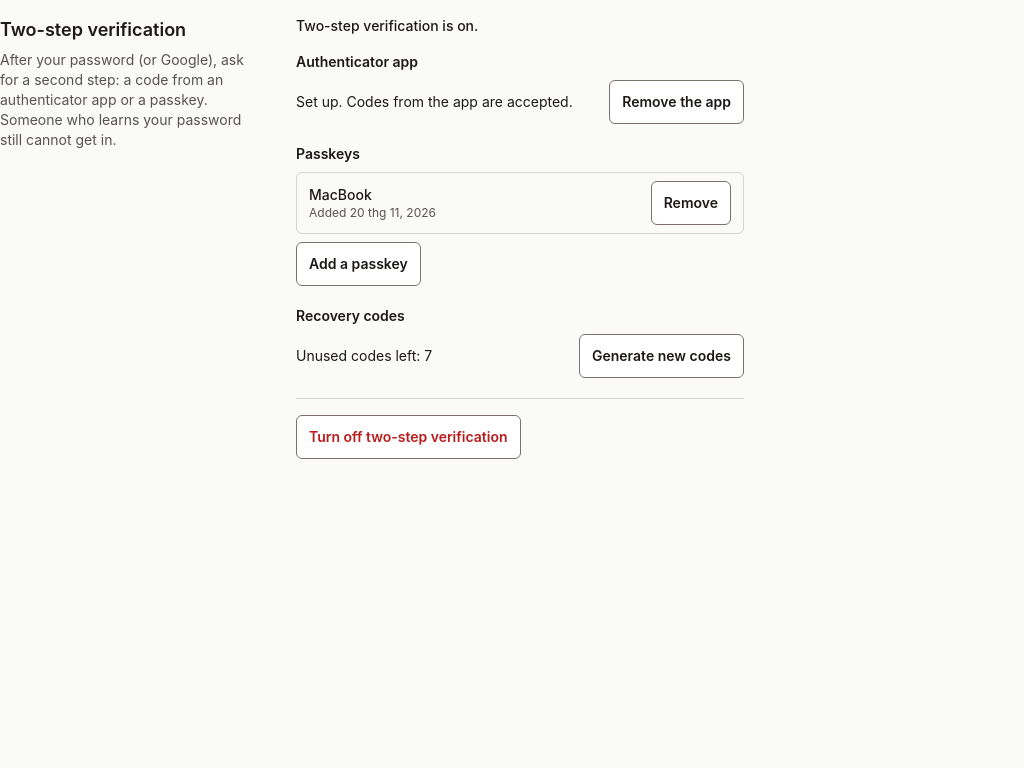
Test case: TwoStep › removes the app after a confirmation
Expected: the heading "Two-step verification" is shown, [0, 19, 186, 40]
Click the button "Remove the app": click(677, 102) [609, 80, 744, 124]
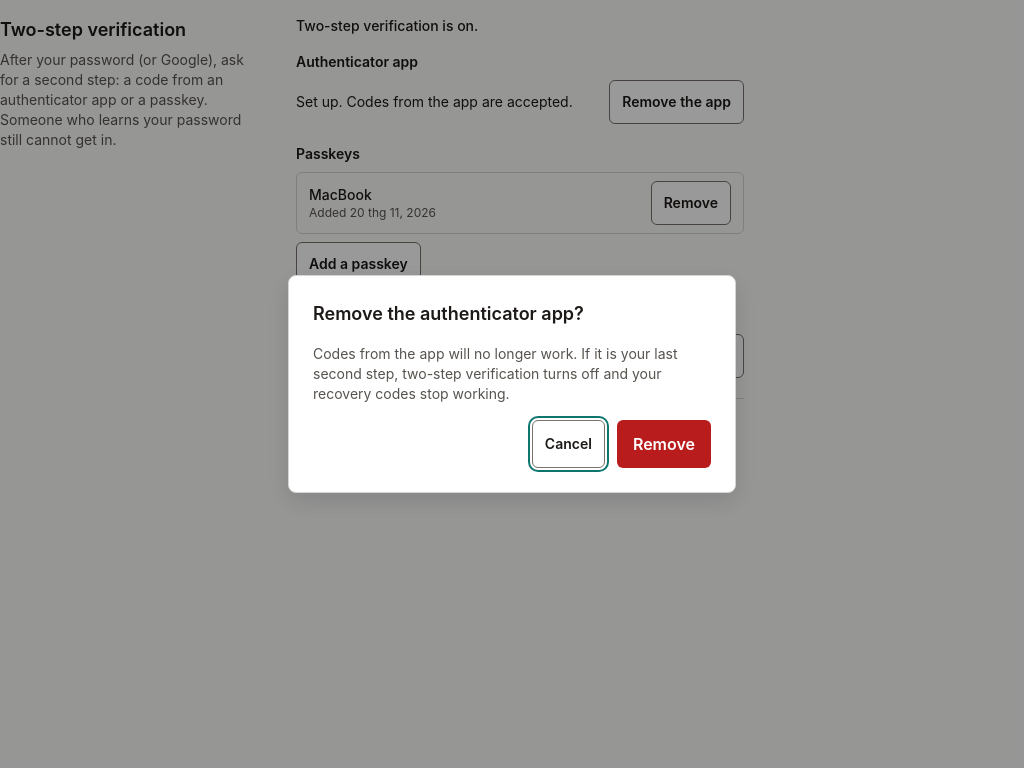
Result: the dialog shows "Codes from the app will no longer work. If it is your last second step, two-step verification turns off and your recovery codes stop working." at [313, 345, 678, 402]
Click the button "Remove": click(664, 444) [617, 420, 711, 468]
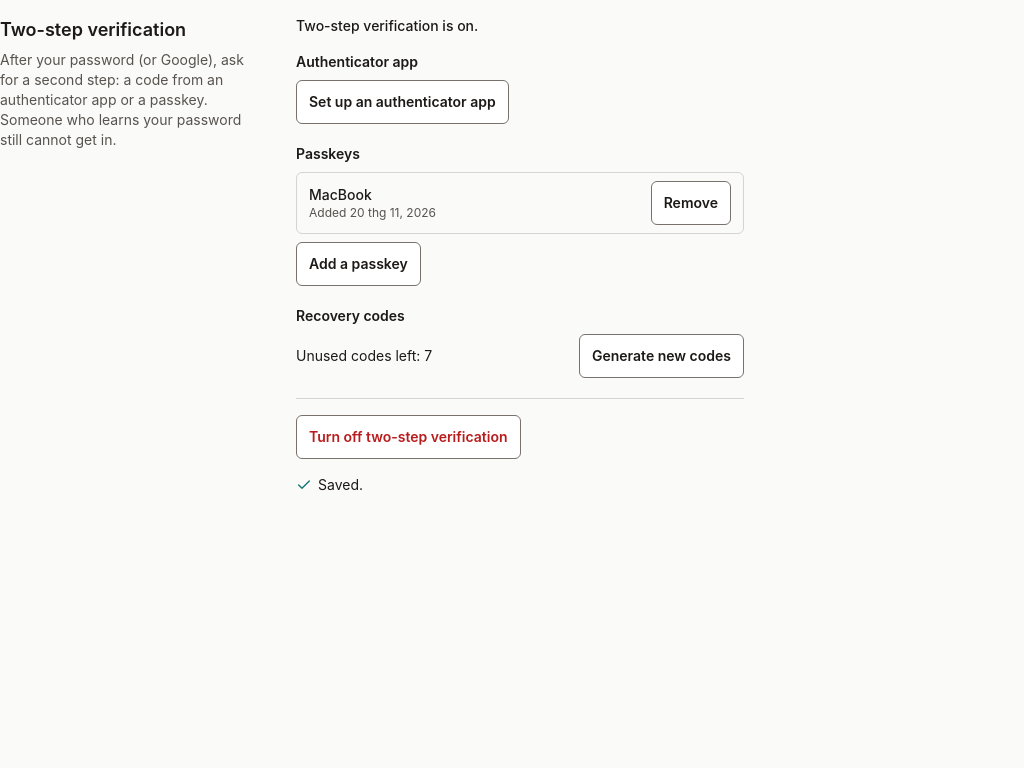
Result: the text "Set up. Codes from the app are accepted." is gone
